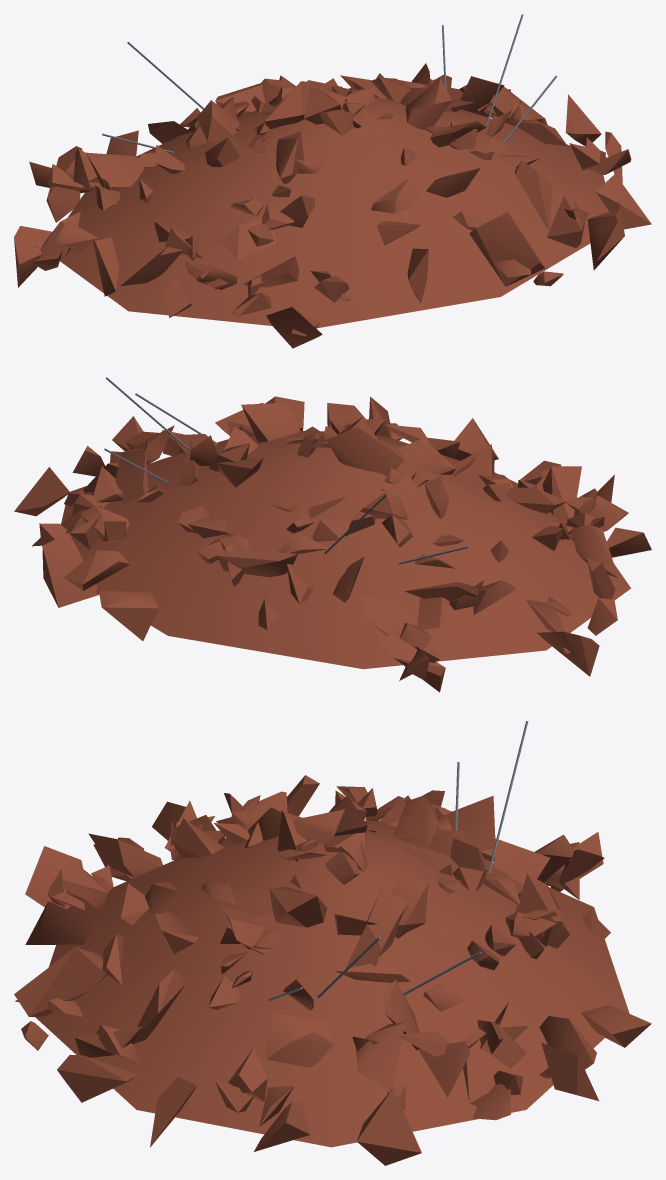
The model's file is demolition.heap.brick_large.glb.
3 renders of one model, top to bottom at view 1: azimuth 30°, elevation 25°; view 2: azimuth 150°, elevation 25°; view 3: azimuth 270°, elevation 25°, orthographic. The views are drawn at different scales.
Parts seen in each view (by area): view 1: main__brick, main__steel_painted; view 2: main__brick, main__steel_painted; view 3: main__brick, main__steel_painted.
Part boxes in pixels (x1,y1,x2,y2): main__brick: (14,63,651,348); main__steel_painted: (102,14,557,153); main__brick: (14,396,651,692); main__steel_painted: (104,377,469,564); main__brick: (14,775,651,1165); main__steel_painted: (268,721,528,1001).
Bounding box in the file's own units: 7.79 × 2.28 × 6.06.
